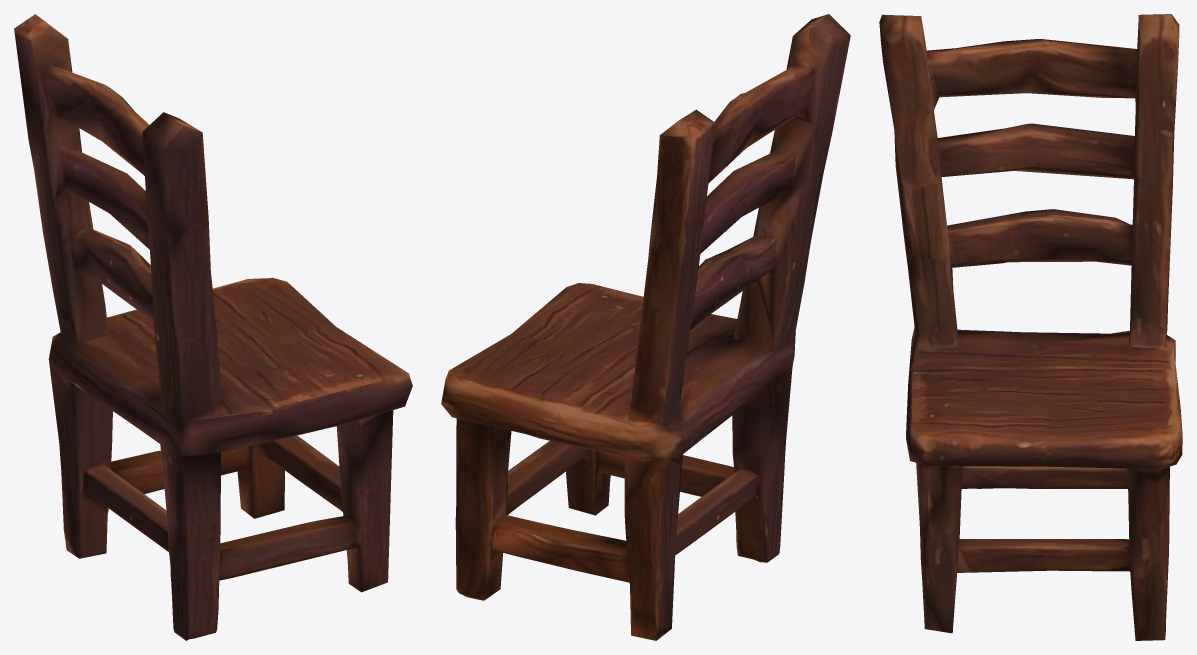
Rendered from 木制酒馆椅子.glb.
The picture shows the model from 3 angles, left to right: view 1: azimuth 30°, elevation 25°; view 2: azimuth 150°, elevation 25°; view 3: azimuth 270°, elevation 25°; orthographic projection. The views are drawn at different scales.
Parts seen in each view (by area): view 1: tripo_node_c151c5fd-3734-4ca2-a890-ee32d4f68a98; view 2: tripo_node_c151c5fd-3734-4ca2-a890-ee32d4f68a98; view 3: tripo_node_c151c5fd-3734-4ca2-a890-ee32d4f68a98.
Part boxes in pixels (x1,y1,x2,y2): tripo_node_c151c5fd-3734-4ca2-a890-ee32d4f68a98: (14, 14, 412, 640); tripo_node_c151c5fd-3734-4ca2-a890-ee32d4f68a98: (441, 14, 850, 640); tripo_node_c151c5fd-3734-4ca2-a890-ee32d4f68a98: (879, 14, 1182, 640).
Size of the model in its own units: 0.5196 by 0.9981 by 0.5251.
1 material, 1 textured.
